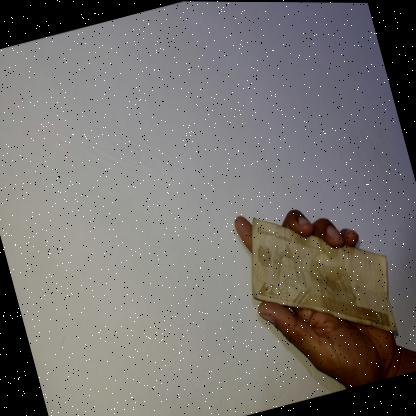five-back-vef: (232, 184, 406, 368)
